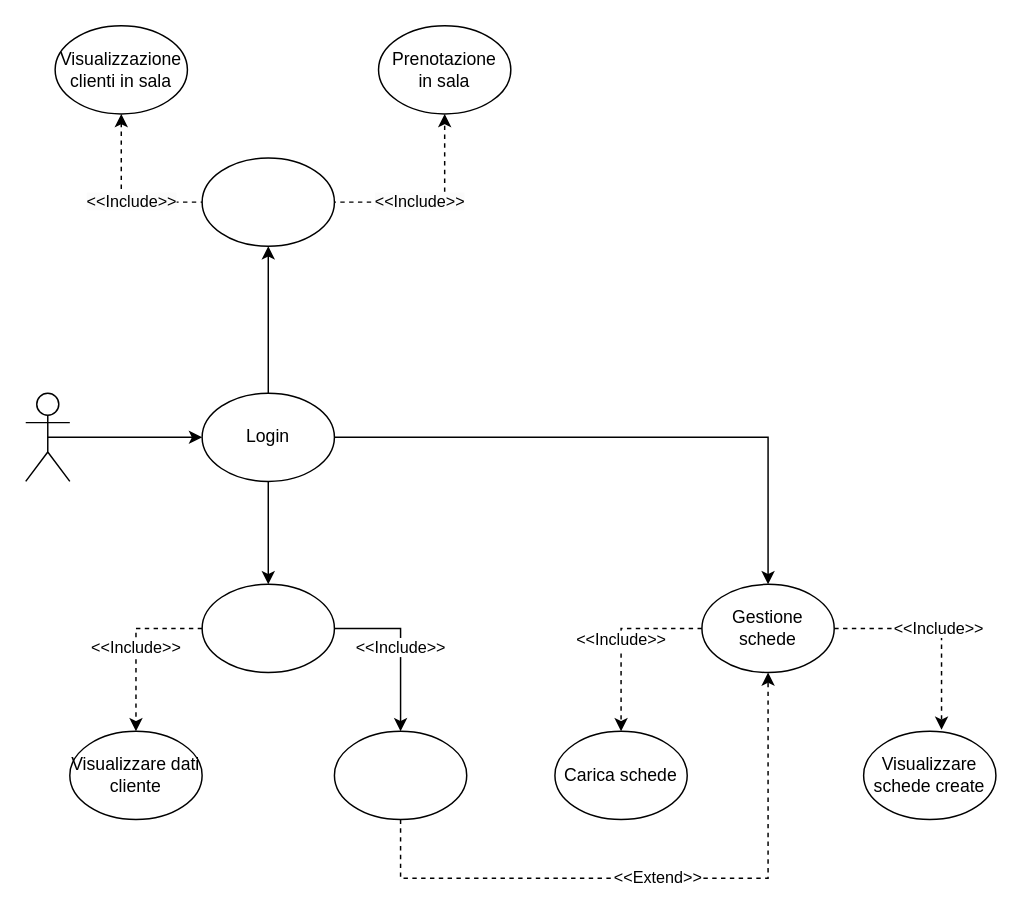
The diagram is 1022 pixels wide and 916 high, and some of its shapes have lost their labels. The box of each missing label's shape, as (x1, y1, x2, y2) in pixels:
Gestione prenotazioni: (201, 157, 334, 246)
Pt: (24, 392, 70, 481)
Visualizzare schede cliente: (333, 730, 467, 820)
Visualizzazione Cliente: (201, 583, 334, 673)
